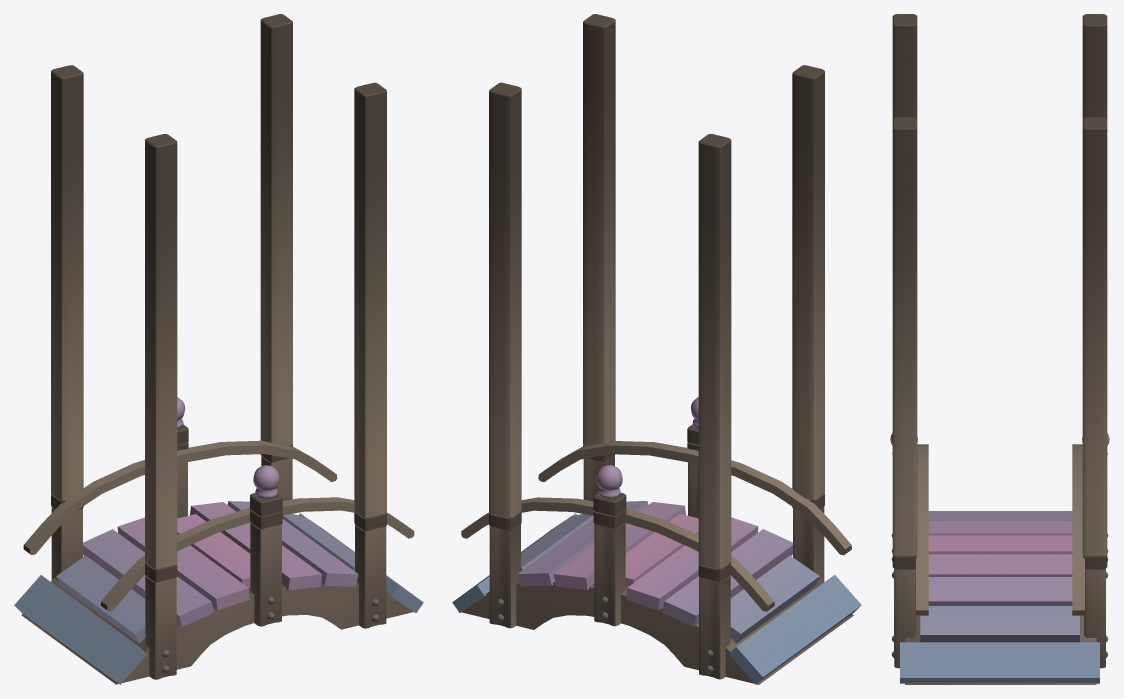
The model's file is hangBridge.fbx.
3 views of the same model, side by side, from view 1: azimuth 30°, elevation 25°; view 2: azimuth 150°, elevation 25°; view 3: azimuth 270°, elevation 25° (orthographic).
Parts seen in each view (by area): view 1: TreeBridgeFallDown; view 2: TreeBridgeFallDown; view 3: TreeBridgeFallDown.
Boxes of the visible parts, bbox=[...] form: TreeBridgeFallDown: bbox=[14, 14, 423, 684]; TreeBridgeFallDown: bbox=[452, 14, 861, 684]; TreeBridgeFallDown: bbox=[890, 14, 1109, 684].
Size of the model in its own units: 5.15 by 8.44 by 3.11.
